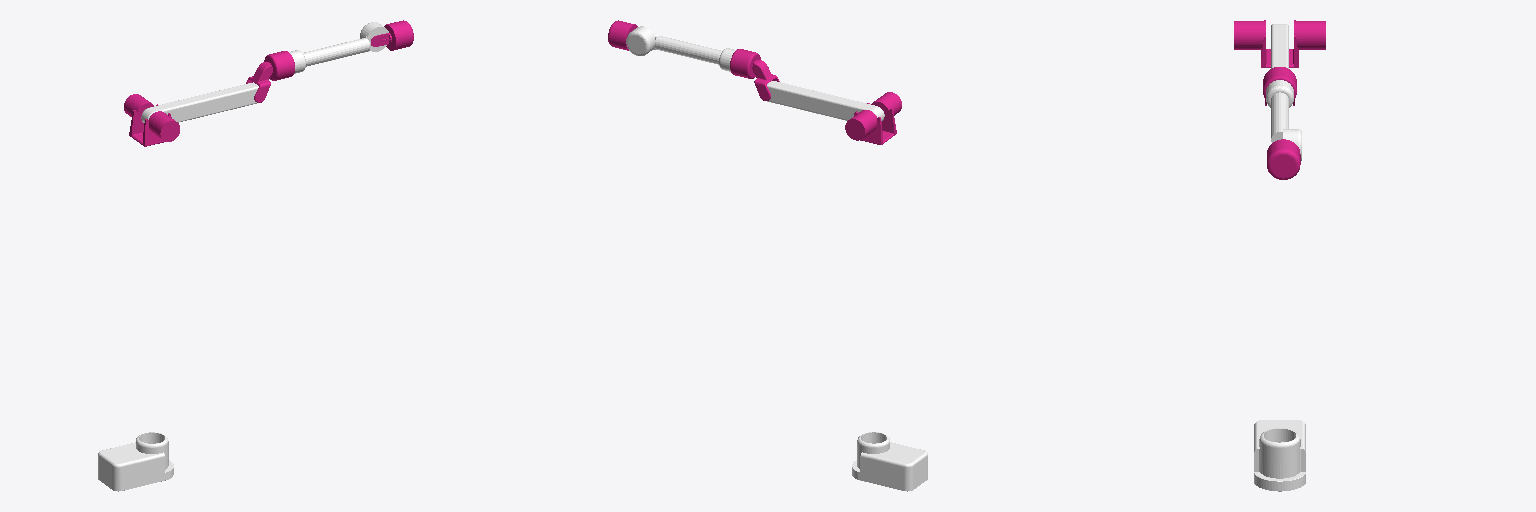
URDF robot description (arm):
<robot name="arm">
    <link name = "base">
        <inertial>
            <mass value="1.546877"/>
            <origin xyz="-0.030474 0.000329 0.051723"/>
            <inertia ixx="0.002534" ixy="-0.00011" ixz="0.000201" iyy="0.005867" iyz="-0.000030" izz="0.006539"/>
        </inertial>
        <visual>
            <geometry>
                <mesh filename="package://X20_ARM/meshes/mesh_arm/base.STL" />
            </geometry>
            <material name="white">
                <color rgba="1 1 1 1"/>
            </material>
        </visual>
        <collision>
            <origin xyz="-0.045 0 0" rpy="0 0 0"/>
            <geometry>
                <box size="0.206 0.115 0.082"/>
            </geometry>
        </collision>
    </link>

    <link name = "link1">
        <inertial>
            <mass value="1.770103"/>
            <origin xyz="-0.000082 0.000337 0.087753"/>
            <inertia ixx="0.007275" ixy="0.000010" ixz="0.000003" iyy="0.002284" iyz="0.000042" izz="0.006462"/>
        </inertial>
        <visual>
            <geometry>
                <mesh filename="package://X20_ARM/meshes/mesh_arm/link1.STL" />
            </geometry>
            <origin xyz="0 0 0.0345"/>
            <material name="pink">
                <color rgba="0.9 0.2 0.6 1"/>
            </material>
        </visual>
        <collision>
            <geometry>
                <mesh filename="package://X20_ARM/meshes/mesh_arm/link1.STL" />
                <origin xyz="0 0 0.0345"/>
            </geometry>
        </collision>
    </link>

    <joint name="joint1" type="revolute">
        <origin xyz="0 0 0.0813"/>
        <origin xyz="0 0 1"/>
        <parent link="base"/>
        <child link="link1"/>
        <axis xyz="0.0 0.0 1.0"/>
        <limit lower="-2.70526" upper="2.70526" effort="24" velocity="22" />
    </joint>

    <link name="link2">
        <inertial>
            <mass value="0.923887"/>
            <origin xyz="0.180777 0.001473 -0.000488"/>
            <inertia ixx="0.000498" iyy="0.013862" izz="0.013889" ixy="0.000099" ixz="0.000033" iyz="0.0"/>
        </inertial>
        <visual>
            <geometry>
                <mesh filename="package://X20_ARM/meshes/mesh_arm/link2.STL" />
            </geometry>
            <material name="white">
                <color rgba="1 1 1 1"/>
            </material>
        </visual>
            
        <collision>
            <origin xyz="165.75 0 0" rpy="0 0 0"/>
            <geometry>
                <box size="0.38375 0.049 0.052"/>
            </geometry>
        </collision>
    </link>

    <joint name="joint2" type="revolute">
        <parent link="link1"/>
        <child link="link2"/>
        <origin xyz="0 0 0.0995"/>
        <axis xyz="0.0 1.0 0.0"/>
        <limit lower="-3.1415926" upper="0.5236" effort="49.9" velocity="16.4" />
    </joint>

    <link name="link3">
        <inertial>
            <mass value="0.683763"/>
            <origin xyz="0.073116 0.000516 0.058417"/>
            <inertia ixx="0.000581" iyy="0.001184" izz="0.001065" ixy="0.000011" ixz="0.000281" iyz="0.000004"/>
        </inertial>
        <visual>
            <geometry>
                <mesh filename="package://X20_ARM/meshes/mesh_arm/link3.STL" />
            </geometry>
            <material name="pink">
                <color rgba="0.9 0.2 0.6 1"/>
            </material>
        </visual>
        <collision>
            <geometry>
                <mesh filename="package://X20_ARM/meshes/mesh_arm/link3.STL" />
            </geometry>
        </collision>
    </link>

    <joint name="joint3" type="revolute">
        <parent link="link2"/>
        <child link="link3"/>
        <origin xyz="0.3315 0.0 0.0"/>
        <axis xyz="0.0 1.0 0.0"/>
        <limit lower="0" upper="3.1415926" effort="49.9" velocity="16.4" />
    </joint>

    <link name="link4">
        <inertial>
            <mass value="0.687665"/>
            <origin xyz="0.231585 0.019429 -0.000001"/>
            <inertia ixx="0.000403" iyy="0.005758" izz="0.005807" ixy="0.000609" ixz="-0.000001" iyz="-0.000001"/>
        </inertial>
        <visual>
            <geometry>
                <mesh filename="package://X20_ARM/meshes/mesh_arm/link4.STL" />
            </geometry>
            <material name="white">
                <color rgba="1 1 1 1"/>
            </material>
        </visual>
        <collision>
            <geometry>
                <cylinder radius="0.020" length="0.283"/>
                <origin xyz="0.1415 0 0" rpy="0 0 1.5707653"/>
            </geometry>
        </collision>
    </link>

    <joint name="joint4" type="revolute">
        <parent link="link3"/>
        <child link="link4"/>
        <origin xyz="0.1121 0 0.065"/>
        <axis xyz="1.0 0.0 0.0"/>
        <limit lower="-2.6180" upper="2.6180" effort="8" velocity="66" />
    </joint>

    <link name="link5">
        <inertial>
            <mass value="0.520227"/>
            <origin xyz="0.076999 -0.004672 -0.002614"/>
            <inertia ixx="0.000292" iyy="0.000386" izz="0.000381" ixy="0.000002" ixz="-0.000004" iyz="0.000001"/>
        </inertial>
        <visual>
            <geometry>
                <mesh filename="package://X20_ARM/meshes/mesh_arm/link5.STL"/>
            </geometry>
            <material name="pink">
                <color rgba="0.9 0.2 0.6 1"/>
            </material>
        </visual>
        <collision>
            <geometry>
                <mesh filename="package://X20_ARM/meshes/mesh_arm/link5.STL"/>
            </geometry>
        </collision>
    </link>

    <joint name="joint5" type="revolute">
        <parent link="link4"/>
        <child link="link5"/>
        <origin xyz="0.283 0.00805 0.0"/>
        <axis xyz="0.0 1.0 0.0"/>
        <limit lower="-1.7453" upper="1.7453" effort="8" velocity="66"/>
    </joint>

    <link name="end-effector">
    </link>

    <joint name="joint6" type="revolute">
        <parent link="link5"/>
        <child link="end-effector"/>
        <origin xyz="0.10424 0.00406 0.00366"/>
        <axis xyz="1.0 0.0 0.0"/>
        <limit lower="-3.1415926" upper="3.1415926" effort="8" velocity="66" />
    </joint>
</robot>

--- Facts derived from the render (not from the file) ---
Views: 3 orthographic renders of the robot side by side, from view 1: azimuth 30°, elevation 25°; view 2: azimuth 150°, elevation 25°; view 3: azimuth 270°, elevation 25°.
Robot: arm — 7 links, 6 joints (6 revolute); root link base; default pose: all joints at 0.
Links seen in each view (by area): view 1: base, link2, link1, link4, link3, link5; view 2: base, link2, link4, link1, link3, link5; view 3: base, link1, link4, link5, link2, link3.
Boxes of the visible links, bbox=[...] form: base: bbox=[98, 432, 173, 491]; link2: bbox=[141, 82, 258, 122]; link1: bbox=[124, 94, 179, 146]; link4: bbox=[289, 22, 388, 73]; link3: bbox=[246, 51, 294, 102]; link5: bbox=[371, 20, 413, 50]; base: bbox=[852, 432, 927, 491]; link2: bbox=[767, 81, 884, 120]; link4: bbox=[626, 26, 735, 71]; link1: bbox=[845, 92, 901, 144]; link3: bbox=[730, 49, 779, 100]; link5: bbox=[608, 20, 637, 50]; base: bbox=[1254, 420, 1305, 491]; link1: bbox=[1234, 20, 1325, 67]; link4: bbox=[1266, 80, 1301, 160]; link5: bbox=[1267, 139, 1300, 179]; link2: bbox=[1271, 24, 1288, 68]; link3: bbox=[1263, 67, 1296, 105].
Size in the robot's own frame: 0.9836 by 0.2055 by 1.21 metres.
Meshes: 6 distinct files referenced, 6 mesh visuals loaded (6 binary STL).
